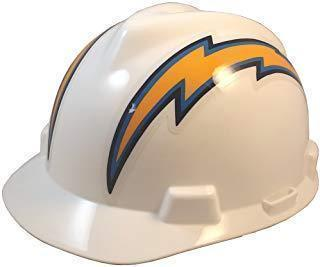helmet: (0, 0, 318, 265)
